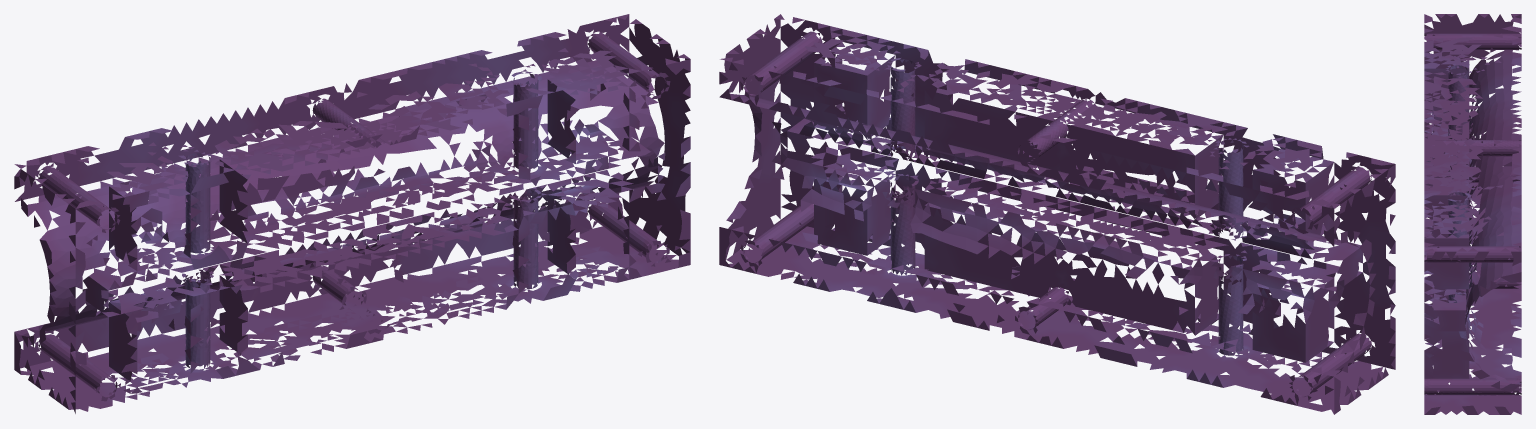
The model's file is SAD-U.glb.
3 views of the same model, side by side, from view 1: azimuth 30°, elevation 25°; view 2: azimuth 150°, elevation 25°; view 3: azimuth 270°, elevation 25° (orthographic). The views are drawn at different scales.
Visible parts, largest first — view 1: geometry_0; view 2: geometry_0; view 3: geometry_0.
Part boxes in pixels (<box>): geometry_0: <box>14,14,690,413</box>; geometry_0: <box>719,14,1395,414</box>; geometry_0: <box>1424,14,1521,414</box>.
Bounding box in the file's own units: 150 × 48 × 26.
